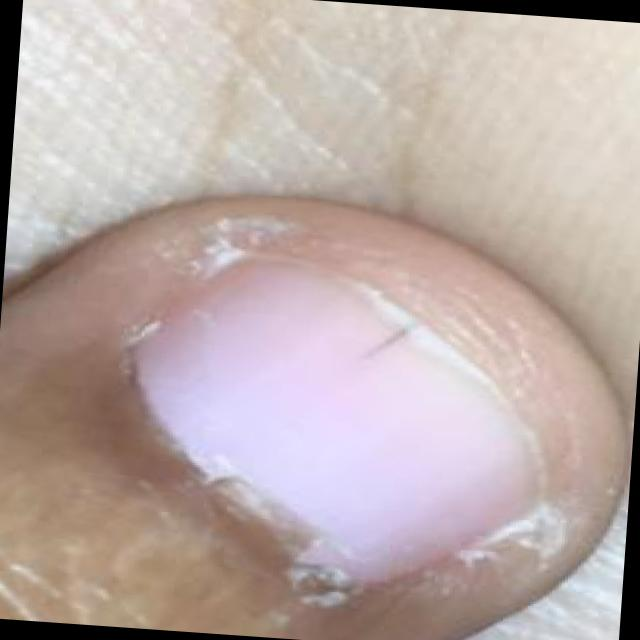Nail: (132, 254, 550, 585)
